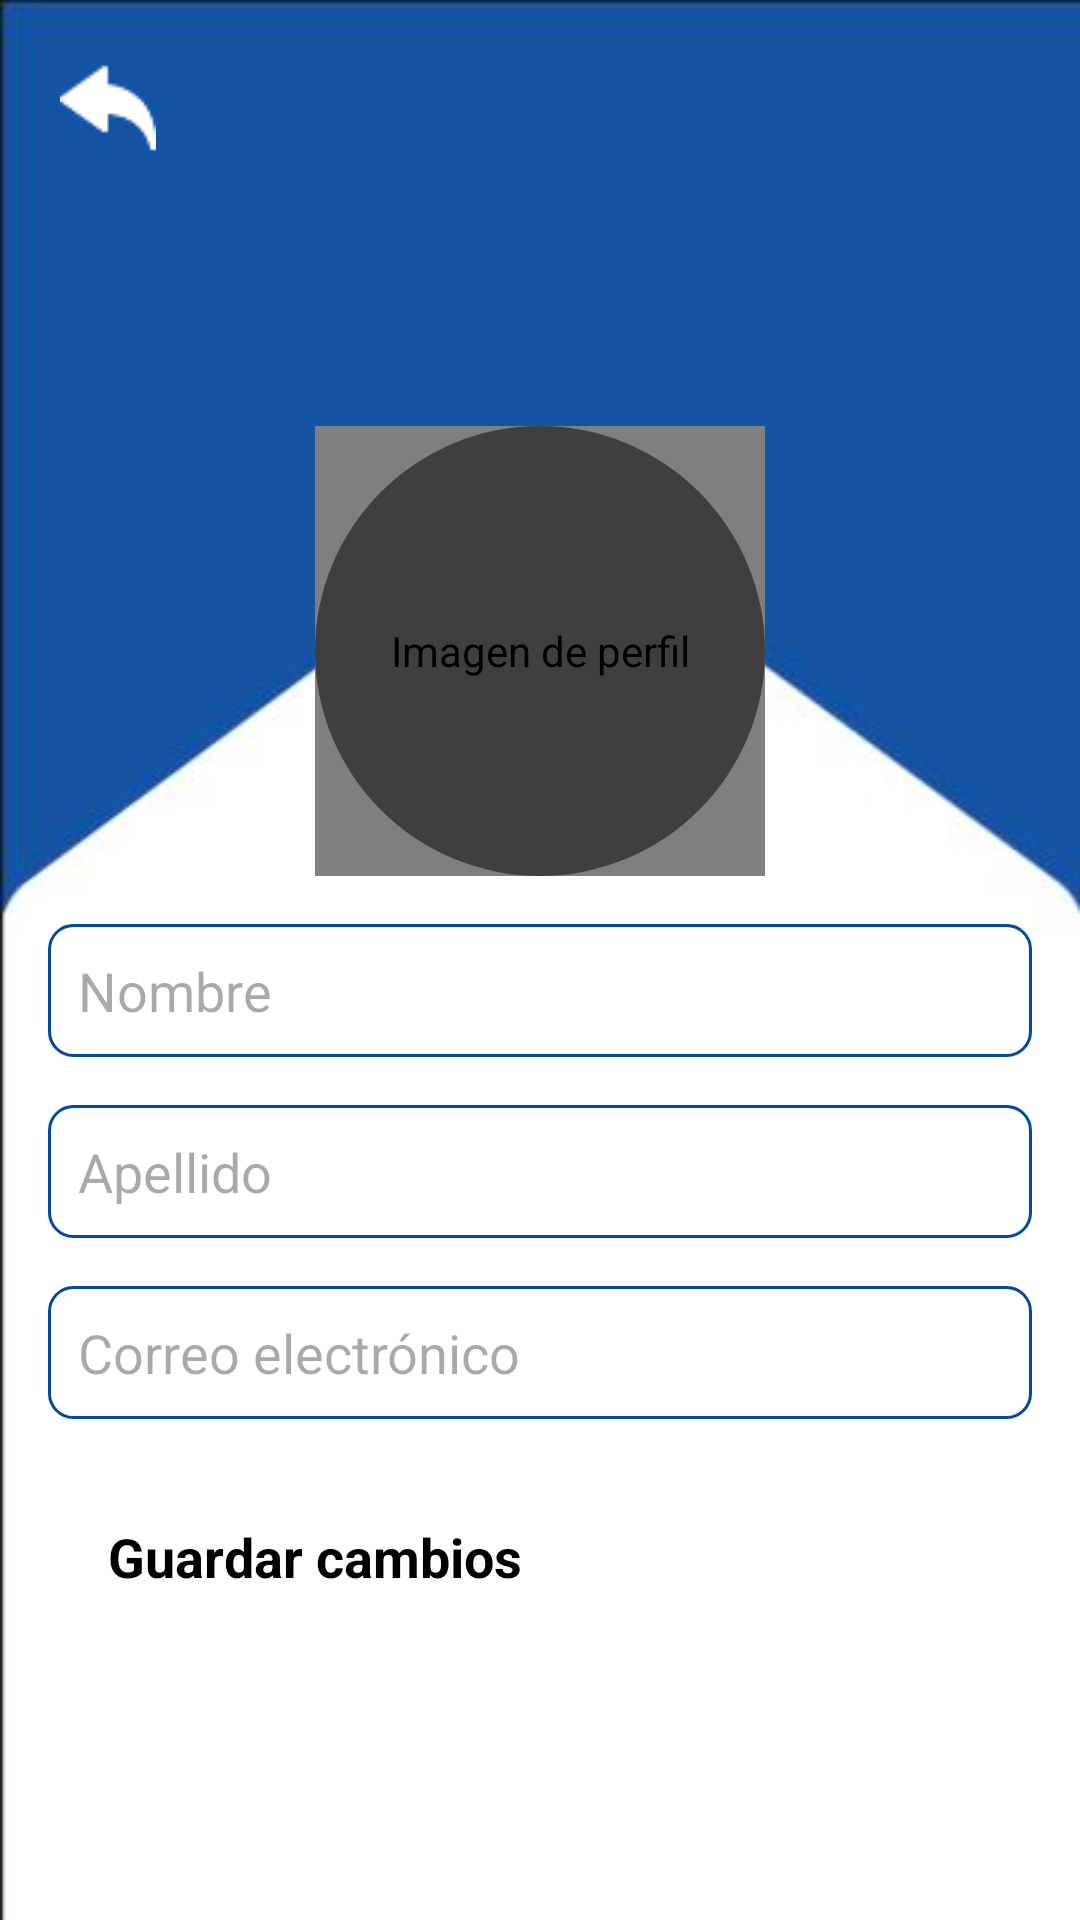

Where to tap for icons on this 1080w x 1920h app screen, as (x=x, y=y):
Volver: (x=108, y=108)
